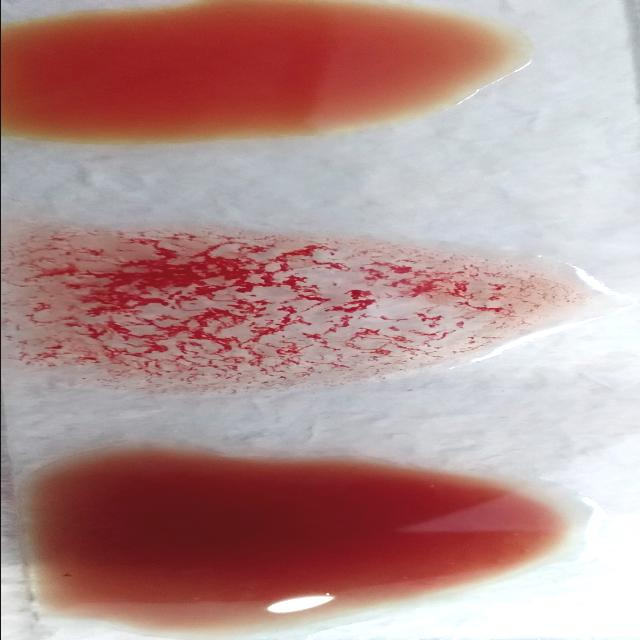D: (0, 239, 601, 380)
